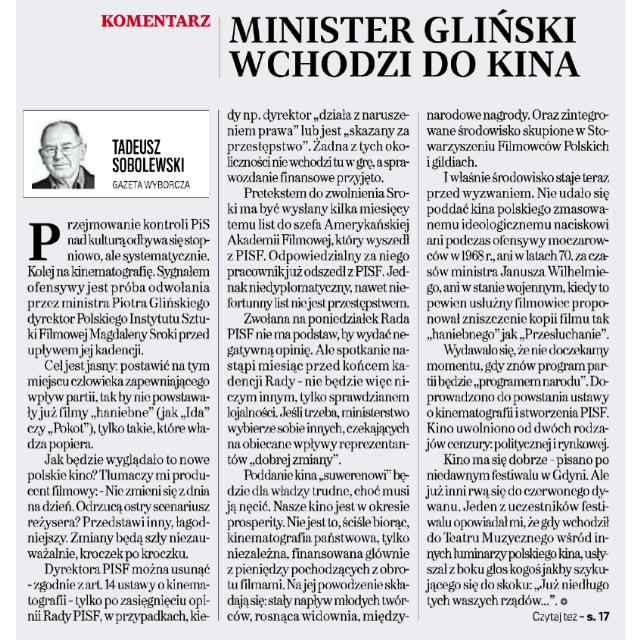author: (111, 133, 189, 175)
body: (222, 107, 410, 628), (422, 108, 614, 608), (21, 210, 213, 628)
title: (94, 6, 592, 84)
